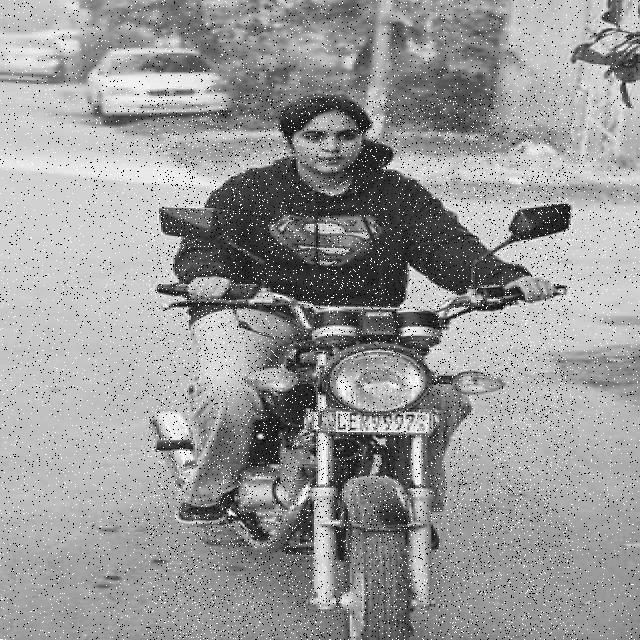Motorbike: (147, 95, 574, 640)
